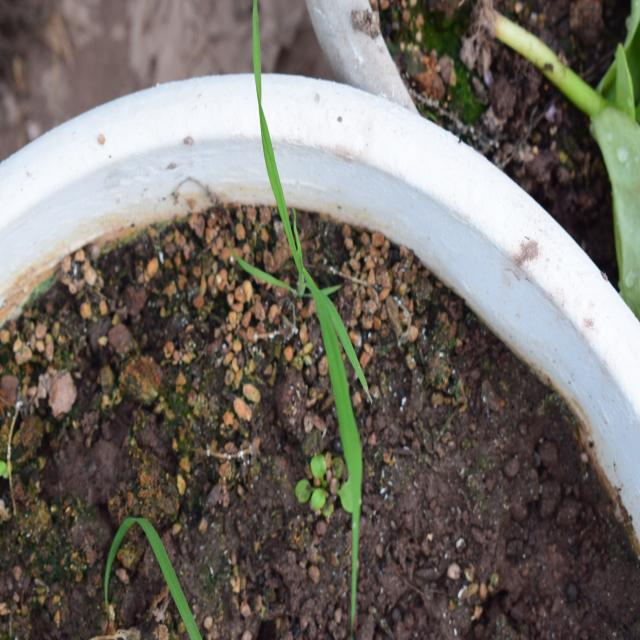barnyard_grass: (207, 88, 406, 571)
